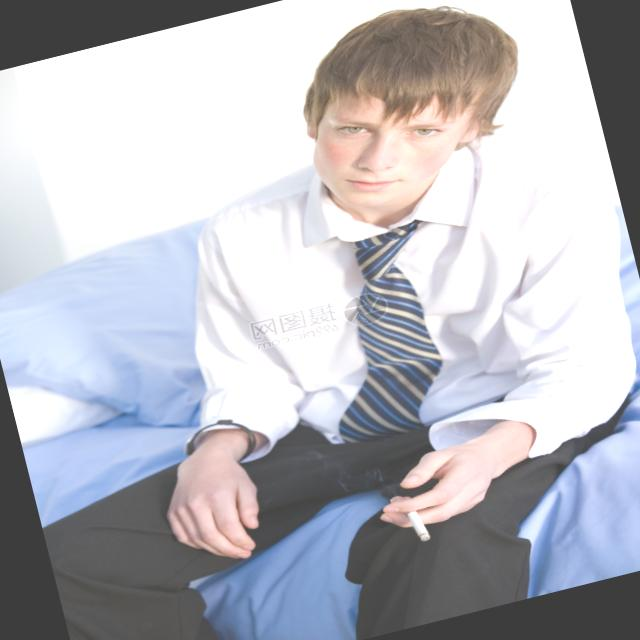smoke: (393, 486, 440, 551)
